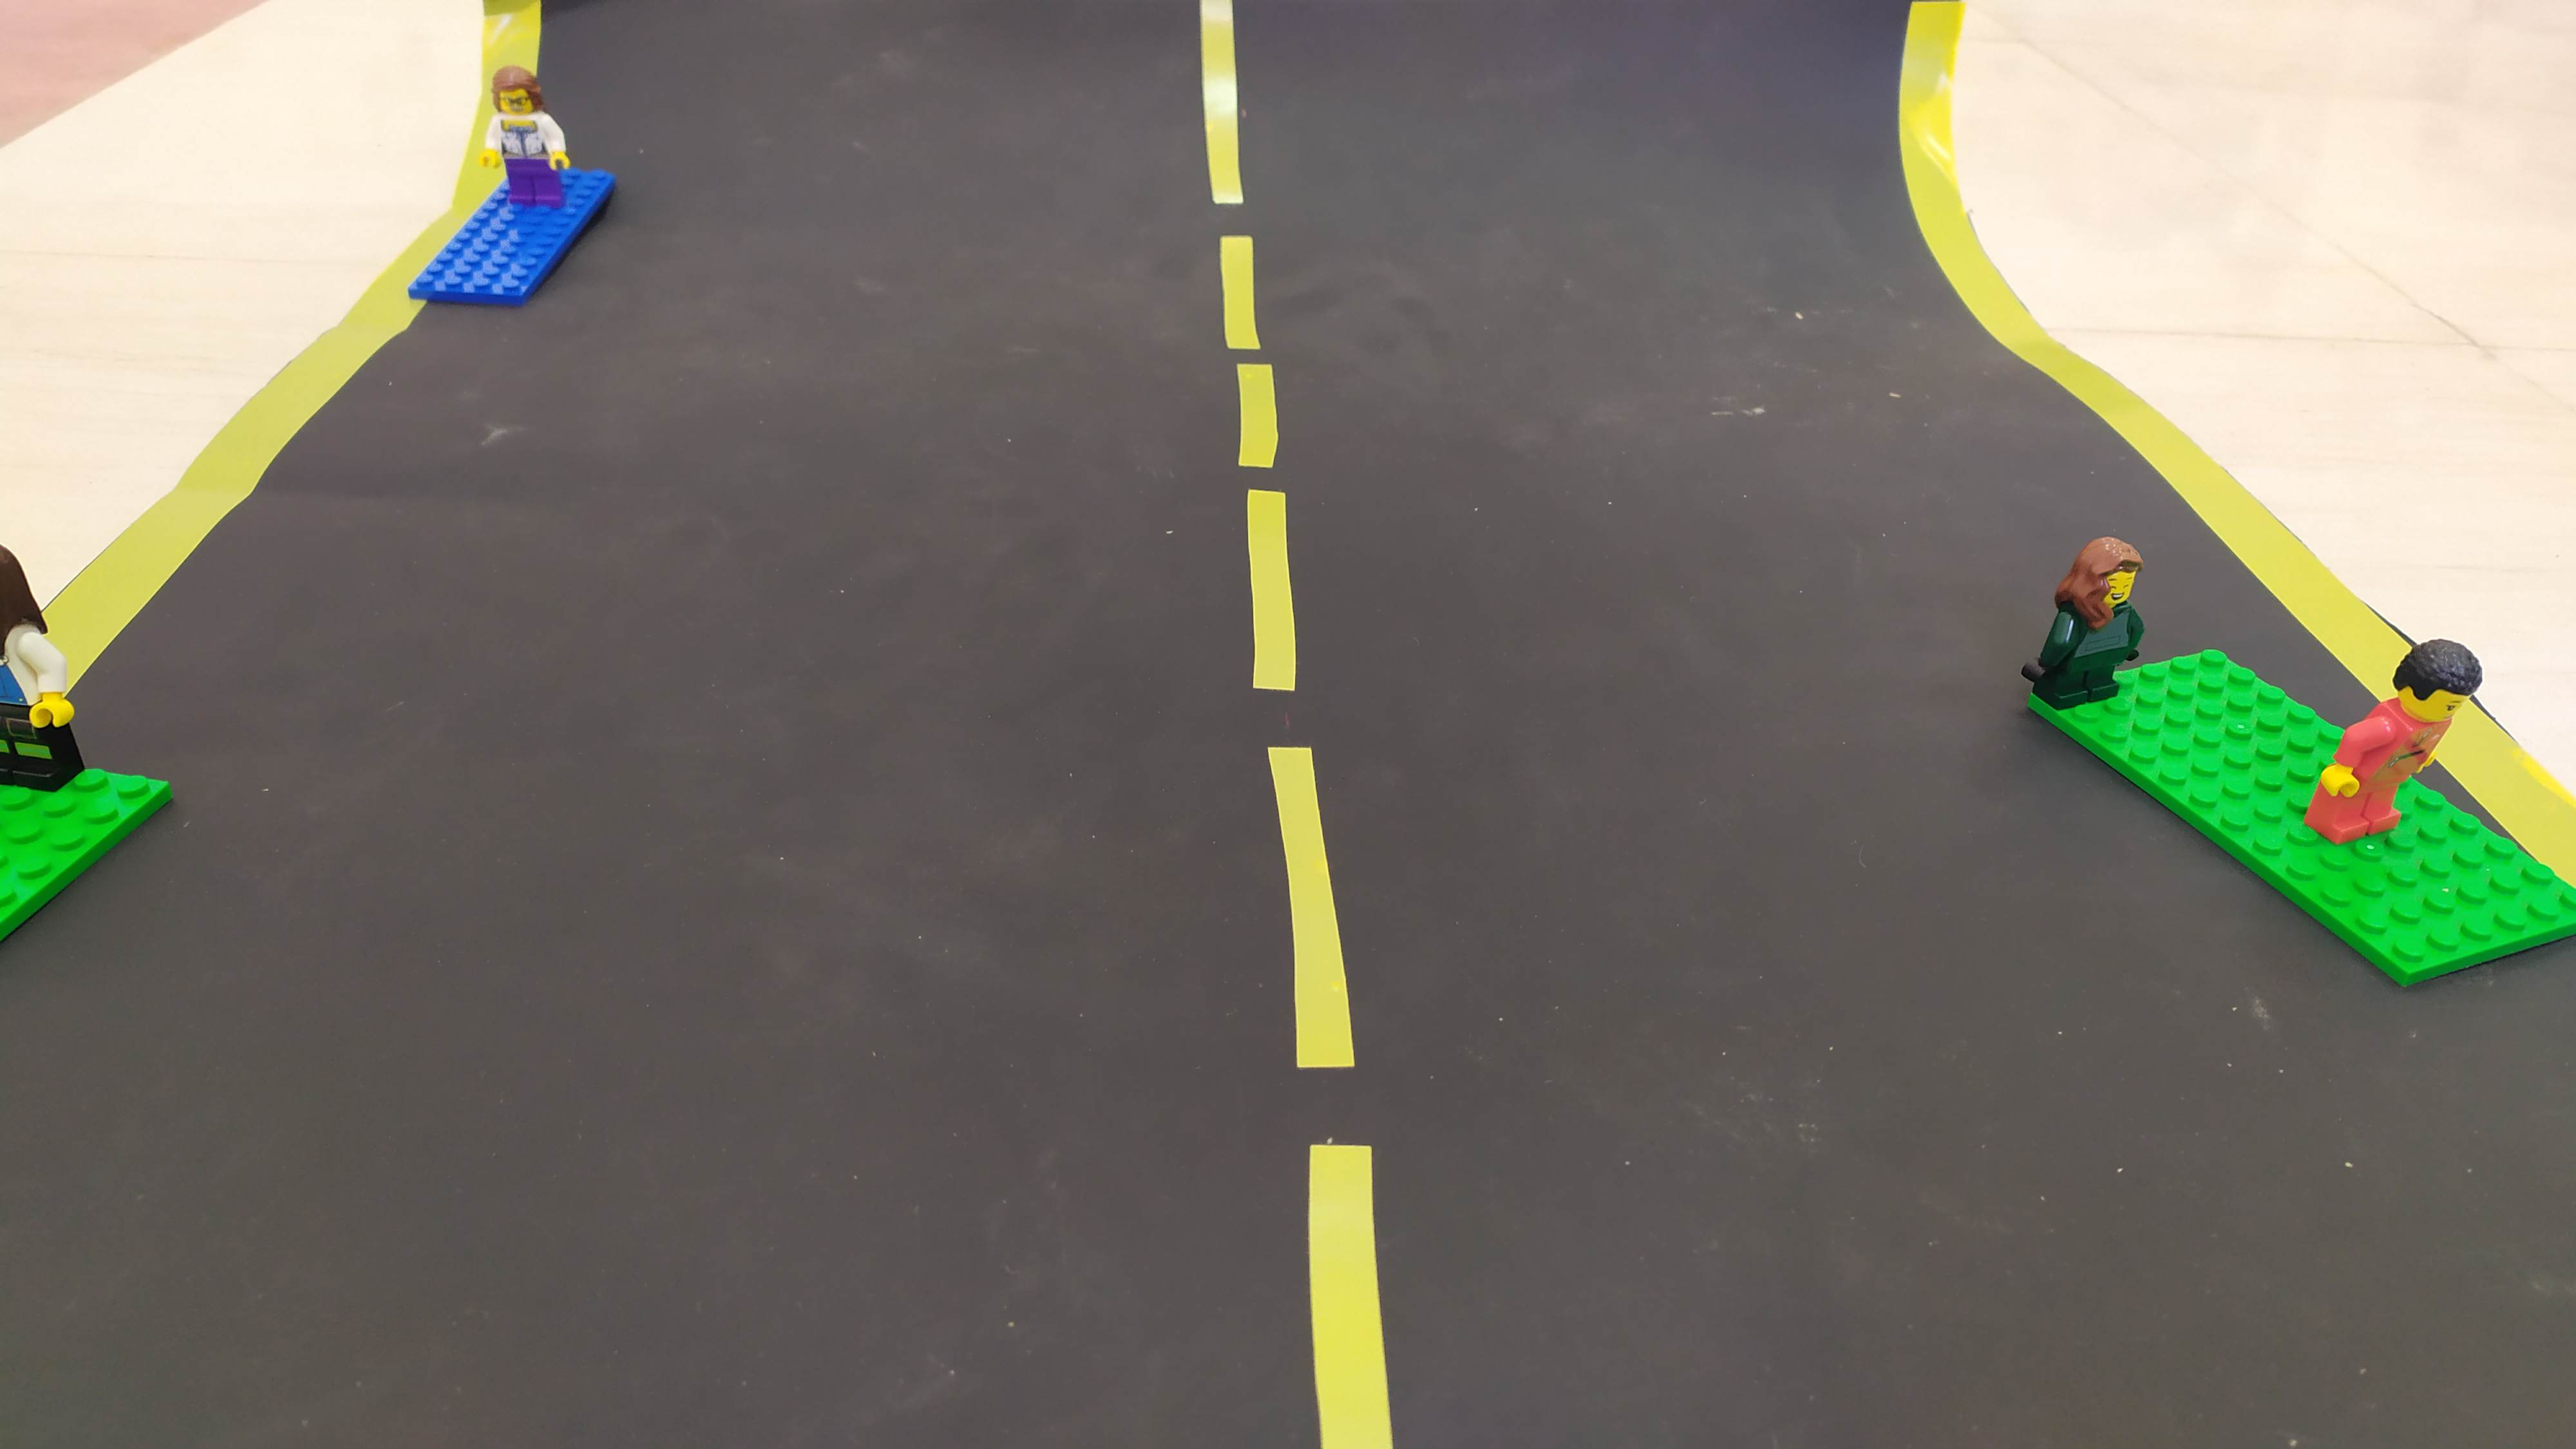Person: (2302, 628, 2483, 873), (2032, 525, 2154, 750), (473, 68, 583, 235)
